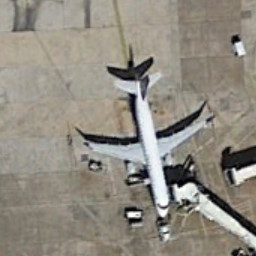Airplane: (69, 62, 219, 231)
